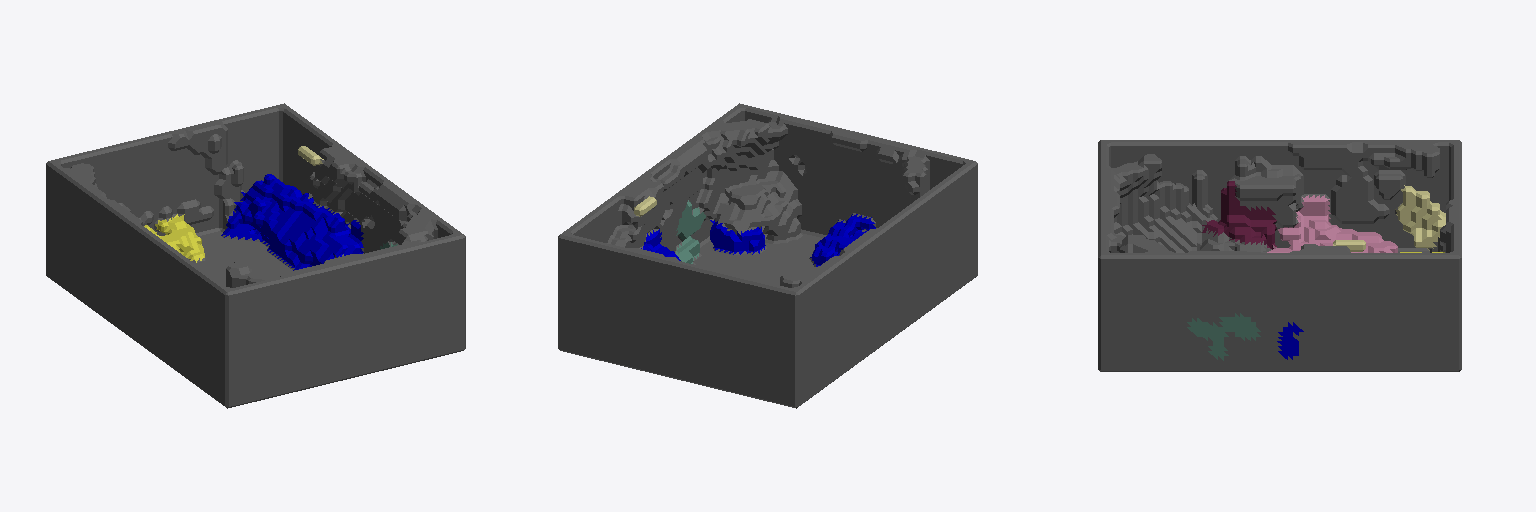
3 views of the same model, side by side, from view 1: azimuth 30°, elevation 25°; view 2: azimuth 150°, elevation 25°; view 3: azimuth 270°, elevation 25° (orthographic).
Parts seen in each view (by area): view 1: Input_prediction_mesh; view 2: Input_prediction_mesh; view 3: Input_prediction_mesh.
Boxes of the visible parts, x1=… form: Input_prediction_mesh: x1=46, y1=103, x2=465, y2=408; Input_prediction_mesh: x1=558, y1=103, x2=977, y2=408; Input_prediction_mesh: x1=1098, y1=140, x2=1461, y2=371.
Size of the model in its own units: 4.16 by 1.92 by 5.44.